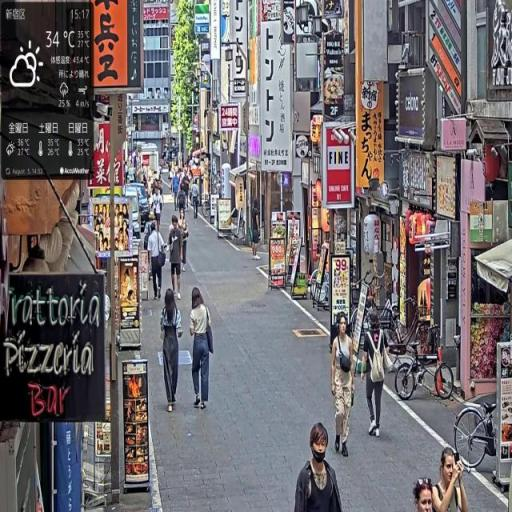person: (294, 423, 345, 512), (359, 310, 393, 441), (331, 315, 357, 460), (189, 288, 215, 413), (160, 286, 184, 414), (432, 446, 469, 512), (148, 218, 169, 303), (168, 216, 186, 301), (179, 208, 192, 269), (191, 180, 201, 223)
